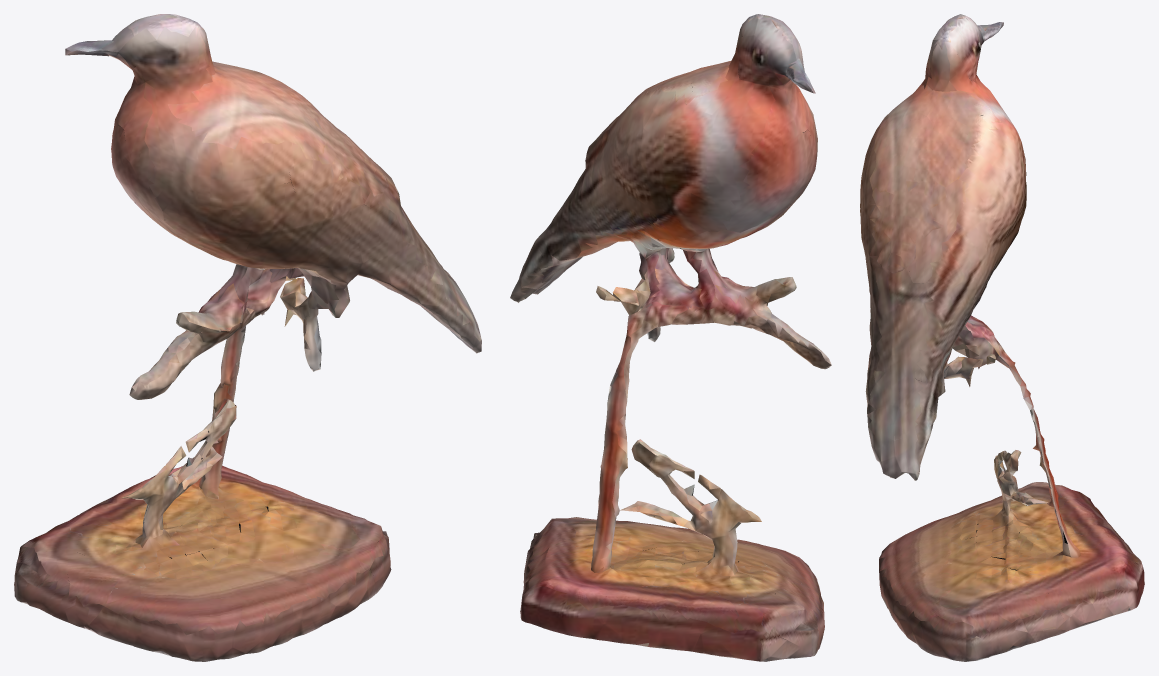
The model's file is 13_10_32_21_a-single-taxidermy-passenger-pigeon-in-a-mahogany-glass-case.glb.
The picture shows the model from 3 angles, left to right: view 1: azimuth 30°, elevation 25°; view 2: azimuth 150°, elevation 25°; view 3: azimuth 270°, elevation 25°; orthographic projection. The views are drawn at different scales.
Visible parts, largest first — view 1: world; view 2: world; view 3: world.
Part boxes in pixels (box(x1,y1,x2,y2)): world: box(14, 14, 481, 661); world: box(510, 14, 831, 661); world: box(860, 14, 1144, 661).
Bounding box in the file's own units: 0.606 × 0.9293 × 0.4341.
1 material, 1 textured.
